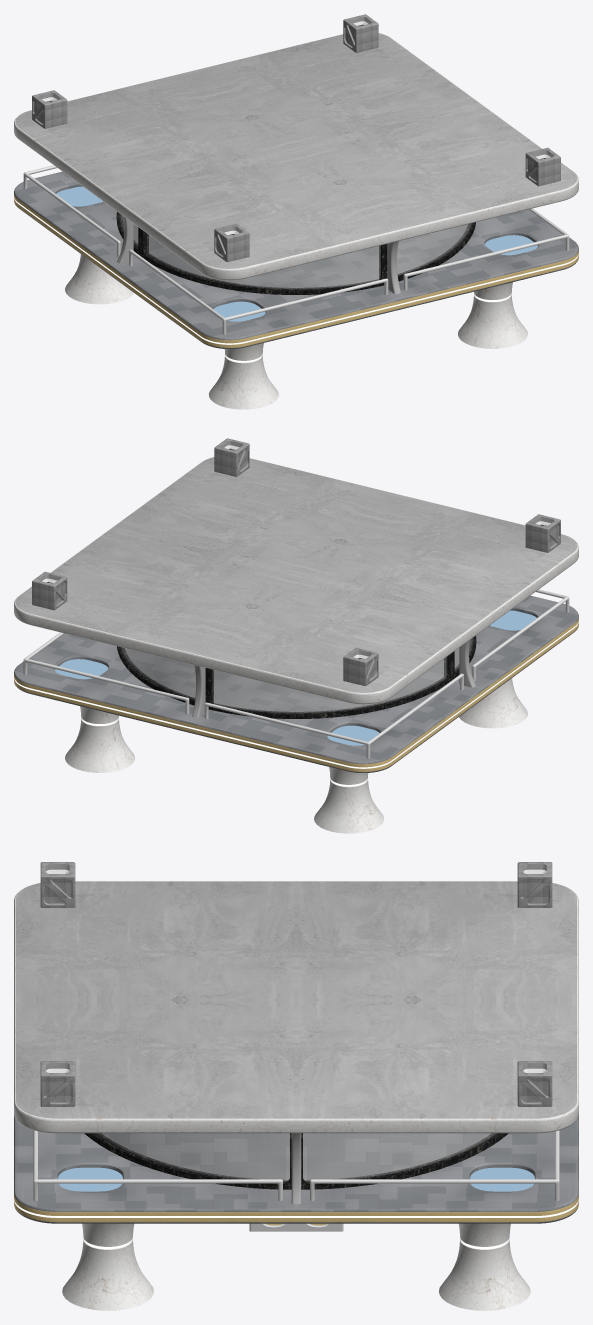
3 views of the same model, one above another, from view 1: azimuth 30°, elevation 25°; view 2: azimuth 150°, elevation 25°; view 3: azimuth 270°, elevation 25° (orthographic). The views are drawn at different scales.
Visible parts, largest first — view 1: Cylinder; view 2: Cylinder; view 3: Cylinder.
Boxes of the visible parts, <box> form: Cylinder: <box>14,14,578,409</box>; Cylinder: <box>14,438,578,833</box>; Cylinder: <box>14,862,578,1310</box>.
Bounding box in the file's own units: 6 × 2.85 × 6.
15 materials, 8 textured.
